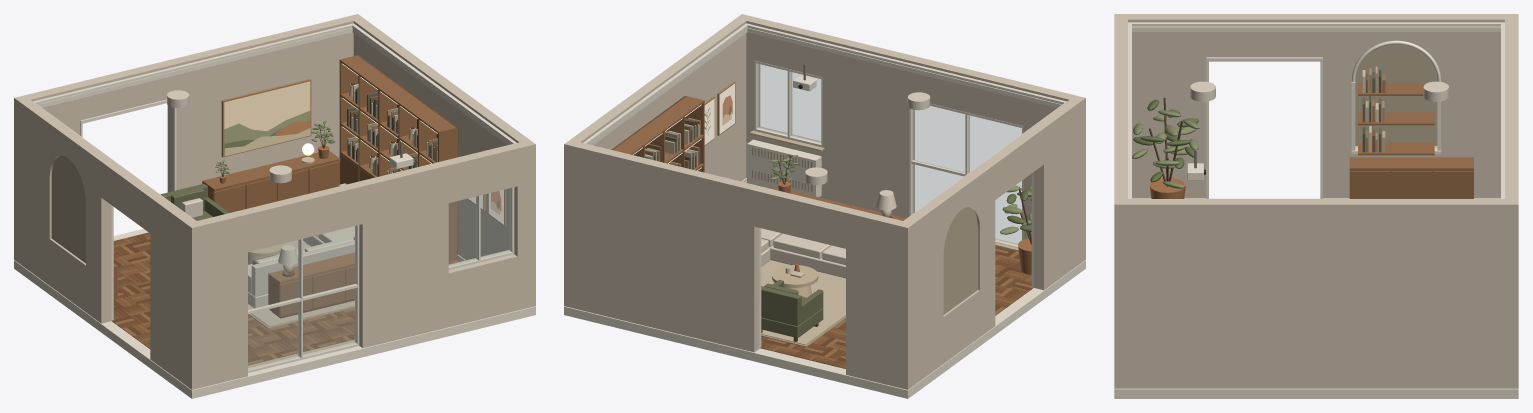
File: sala-quadro.glb
The picture shows the model from 3 angles, left to right: view 1: azimuth 30°, elevation 25°; view 2: azimuth 150°, elevation 25°; view 3: azimuth 270°, elevation 25°; orthographic projection. The views are drawn at different scales.
Visible parts, largest first — view 1: Parede front, Parede back, Parede left, Pavimento — tacos de madeira, Estante direita — 3,00 × 0,34 × 2,20 m, Parede right, Quadro removível, Móvel sob a projeção, Aparador atrás do sofá — 2,30 × 0,35 m, Nicho em arco, Sofá em L — 2,70 × 1,95 m, Poltrona de linhas direitas — 0,78 × 0,78 m (+5 smaller); view 2: Parede back, Parede front, Parede left, Parede right, Pavimento — tacos de madeira, Estante direita — 3,00 × 0,34 × 2,20 m, Nicho em arco, Poltrona de linhas direitas — 0,78 × 0,78 m, Grelha existente, Sofá em L — 2,70 × 1,95 m, Tapete, Planta (×2) (+4 smaller); view 3: Parede right, Parede left, Nicho em arco, Parede front, Parede back, Arrumação sob o nicho, Pavimento — tacos de madeira, Planta, Luminárias de teto e projetor.
Boxes of the visible parts, x1,y1,x2,y2 form: Parede front: [186, 140, 535, 389]; Parede back: [14, 14, 363, 263]; Parede left: [20, 99, 195, 385]; Pavimento — tacos de madeira: [14, 229, 535, 398]; Estante direita — 3,00 × 0,34 × 2,20 m: [339, 55, 458, 260]; Parede right: [351, 18, 529, 259]; Quadro removível: [221, 79, 311, 157]; Móvel sob a projeção: [202, 150, 340, 212]; Aparador atrás do sofá — 2,30 × 0,35 m: [268, 252, 354, 318]; Nicho em arco: [51, 155, 85, 263]; Sofá em L — 2,70 × 1,95 m: [248, 183, 354, 308]; Poltrona de linhas direitas — 0,78 × 0,78 m: [160, 183, 229, 220]; Parede back: [564, 140, 913, 389]; Parede front: [736, 14, 1085, 263]; Parede left: [904, 99, 1079, 385]; Parede right: [570, 18, 748, 181]; Pavimento — tacos de madeira: [564, 183, 1085, 398]; Estante direita — 3,00 × 0,34 × 2,20 m: [611, 95, 704, 172]; Nicho em arco: [943, 207, 977, 314]; Poltrona de linhas direitas — 0,78 × 0,78 m: [761, 279, 823, 341]; Grelha existente: [747, 139, 821, 197]; Sofá em L — 2,70 × 1,95 m: [761, 228, 845, 278]; Tapete: [761, 260, 845, 347]; Planta (×2): [770, 154, 1031, 274]; Parede right: [1128, 199, 1504, 388]; Parede left: [1128, 14, 1504, 198]; Nicho em arco: [1351, 40, 1441, 155]; Parede front: [1114, 14, 1131, 388]; Parede back: [1501, 14, 1518, 388]; Arrumação sob o nicho: [1349, 157, 1473, 198]; Pavimento — tacos de madeira: [1114, 198, 1518, 398]; Planta: [1132, 97, 1199, 198]; Luminárias de teto e projetor: [1187, 81, 1448, 180].
Size of the model in its own units: 6 by 2.85 by 5.38.
